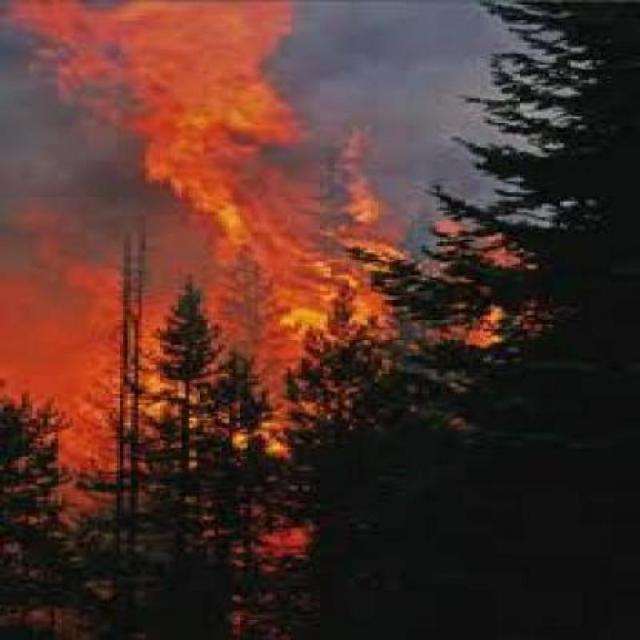Fire: (0, 8, 465, 606)
